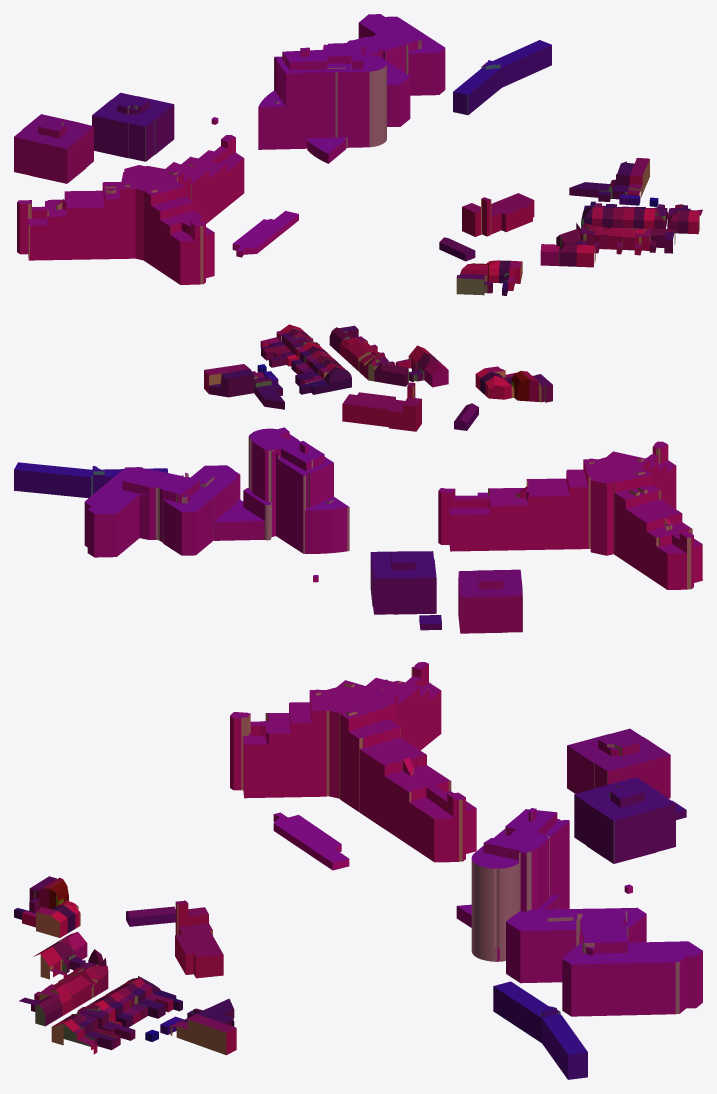
Rendered from buildings_5_6.glb.
3 views of the same model, one above another, from view 1: azimuth 30°, elevation 25°; view 2: azimuth 150°, elevation 25°; view 3: azimuth 270°, elevation 25° (orthographic). The views are drawn at different scales.
Parts seen in each view (by area): view 1: buildings_5_6; view 2: buildings_5_6; view 3: buildings_5_6.
Boxes of the visible parts, x1,y1,x2,y2 form: buildings_5_6: [14, 14, 702, 295]; buildings_5_6: [14, 324, 702, 633]; buildings_5_6: [14, 662, 702, 1079].
Bounding box in the file's own units: 260 × 38.22 × 212.
